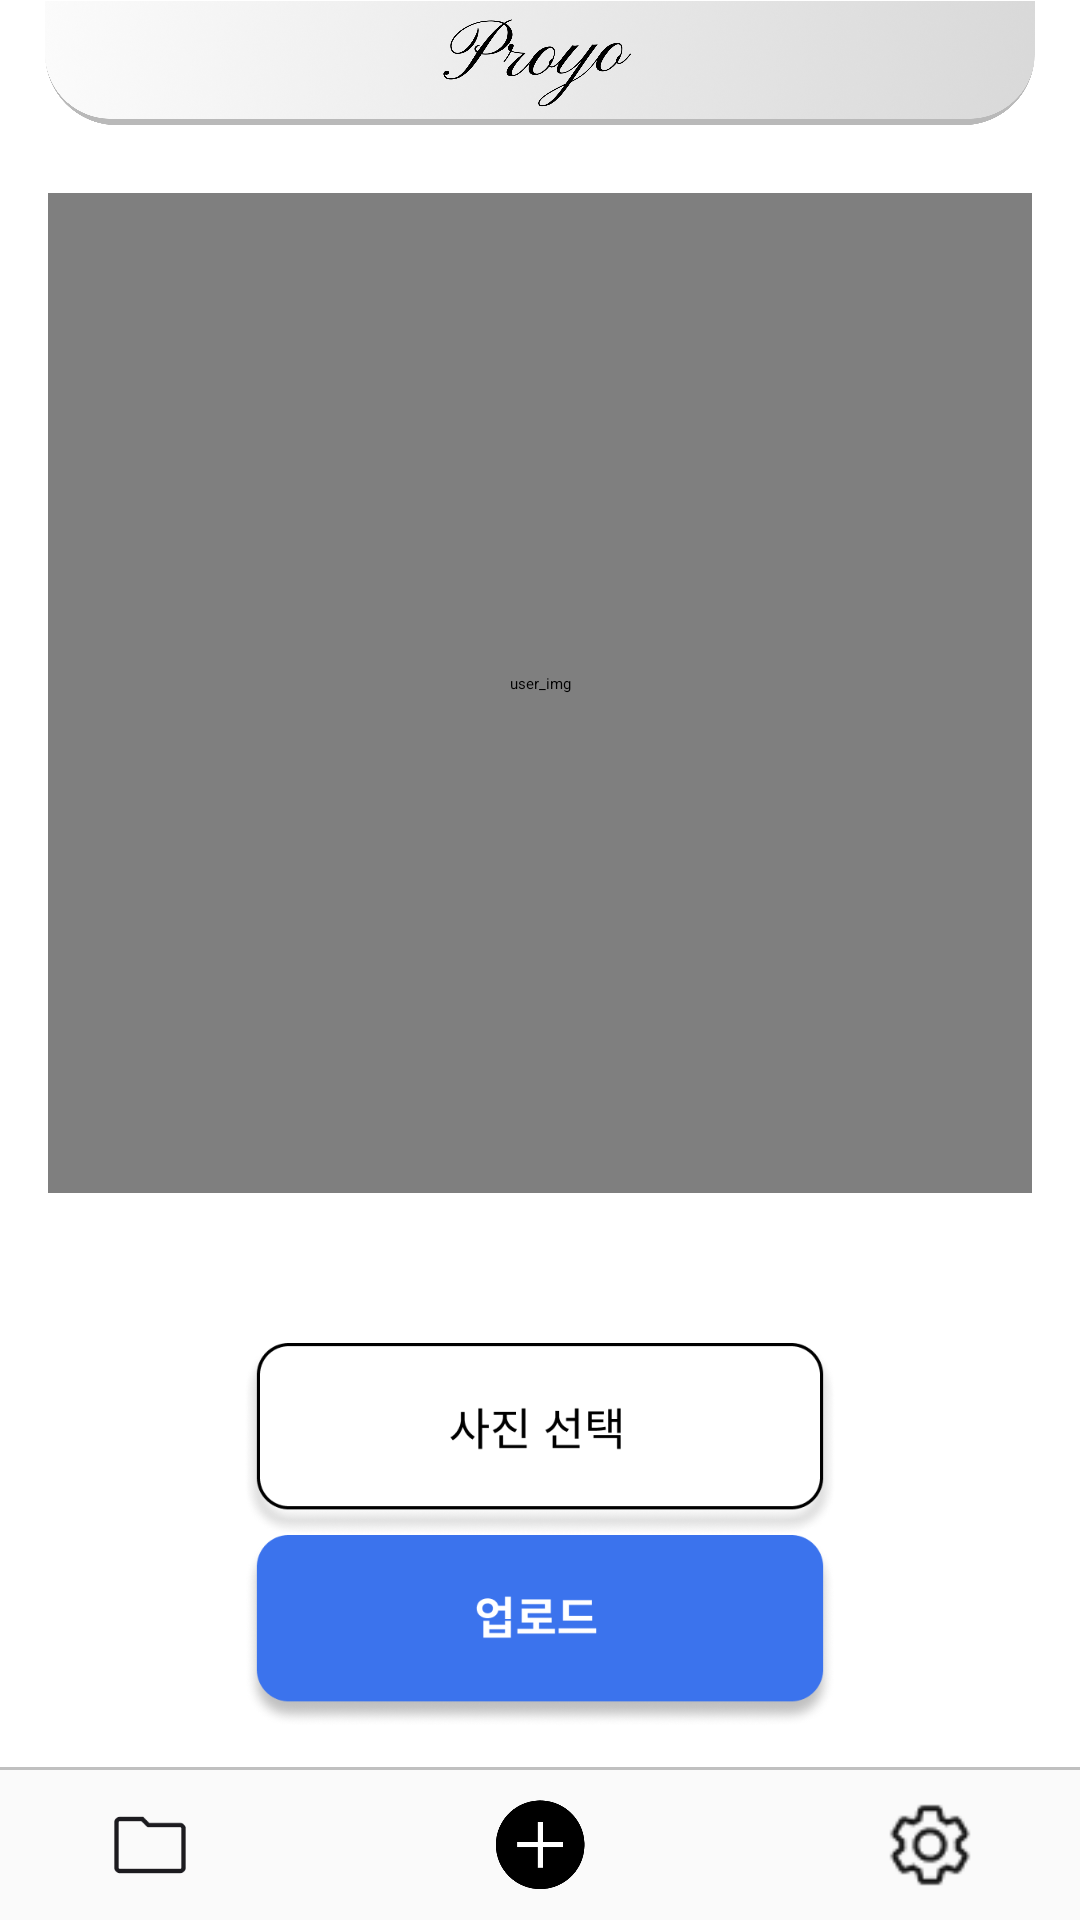

Screen size 1080*1920. Icon name, then its center in pixels as point (x, y):
문제 목록: point (150, 1845)
설정: point (930, 1845)
